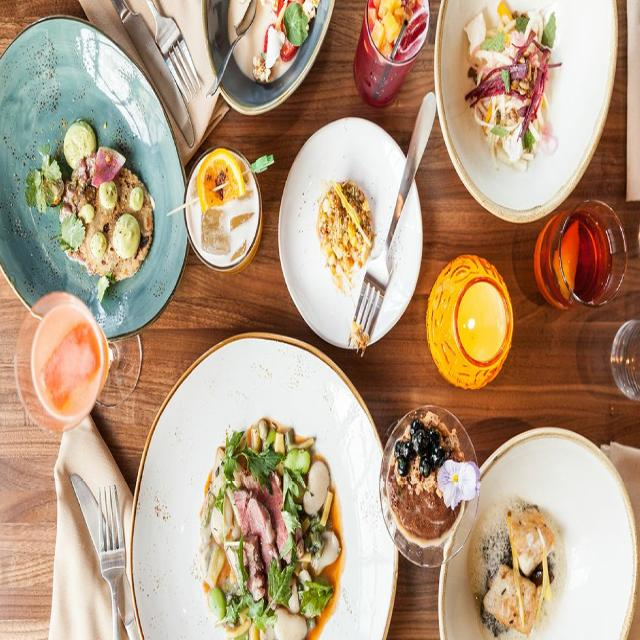nuoc ep trai cay: (346, 0, 428, 110)
rau cu: (447, 0, 575, 176)
